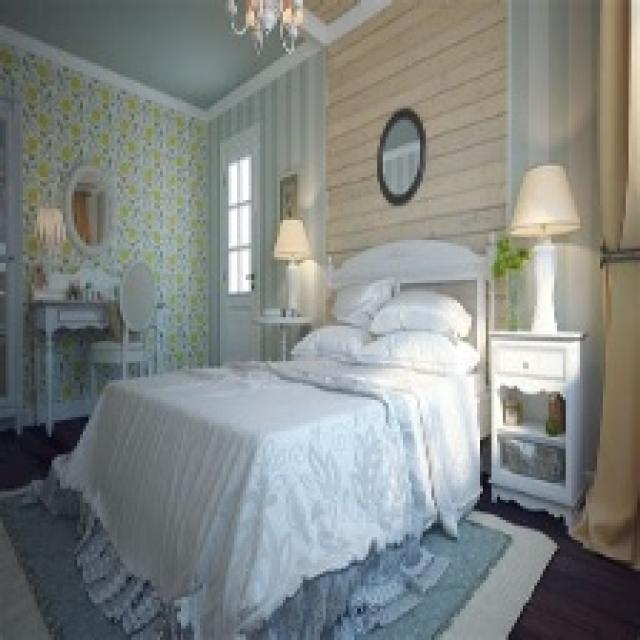Bed: (40, 232, 494, 637)
